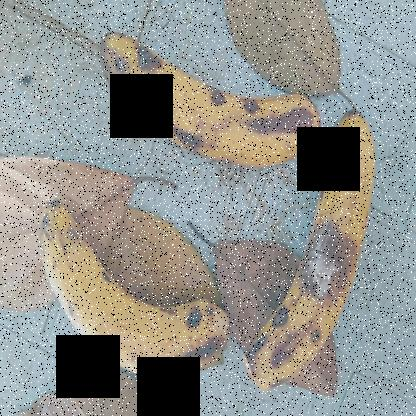overripe: (241, 86, 401, 398), (11, 174, 219, 384), (90, 37, 325, 177)
rotten: (298, 202, 372, 326)
